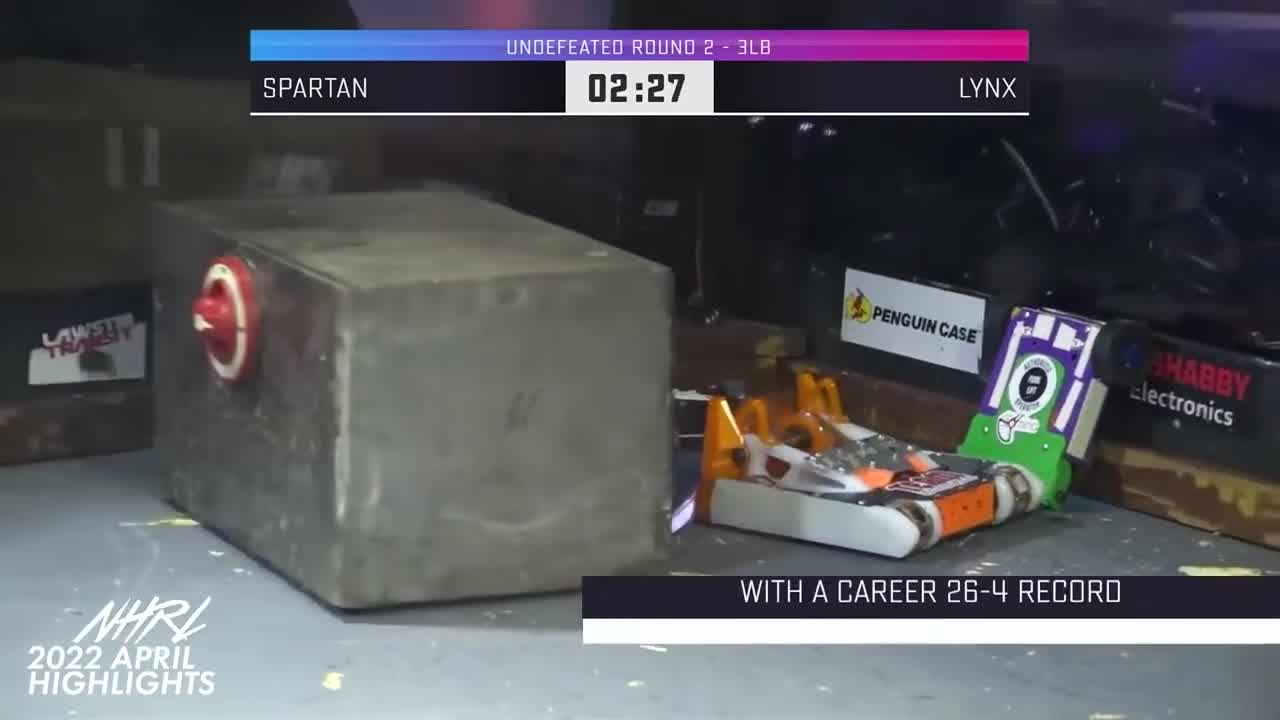combatbot: (666, 369, 1046, 562)
housebot: (144, 176, 670, 619)
minibot: (952, 291, 1154, 517)
